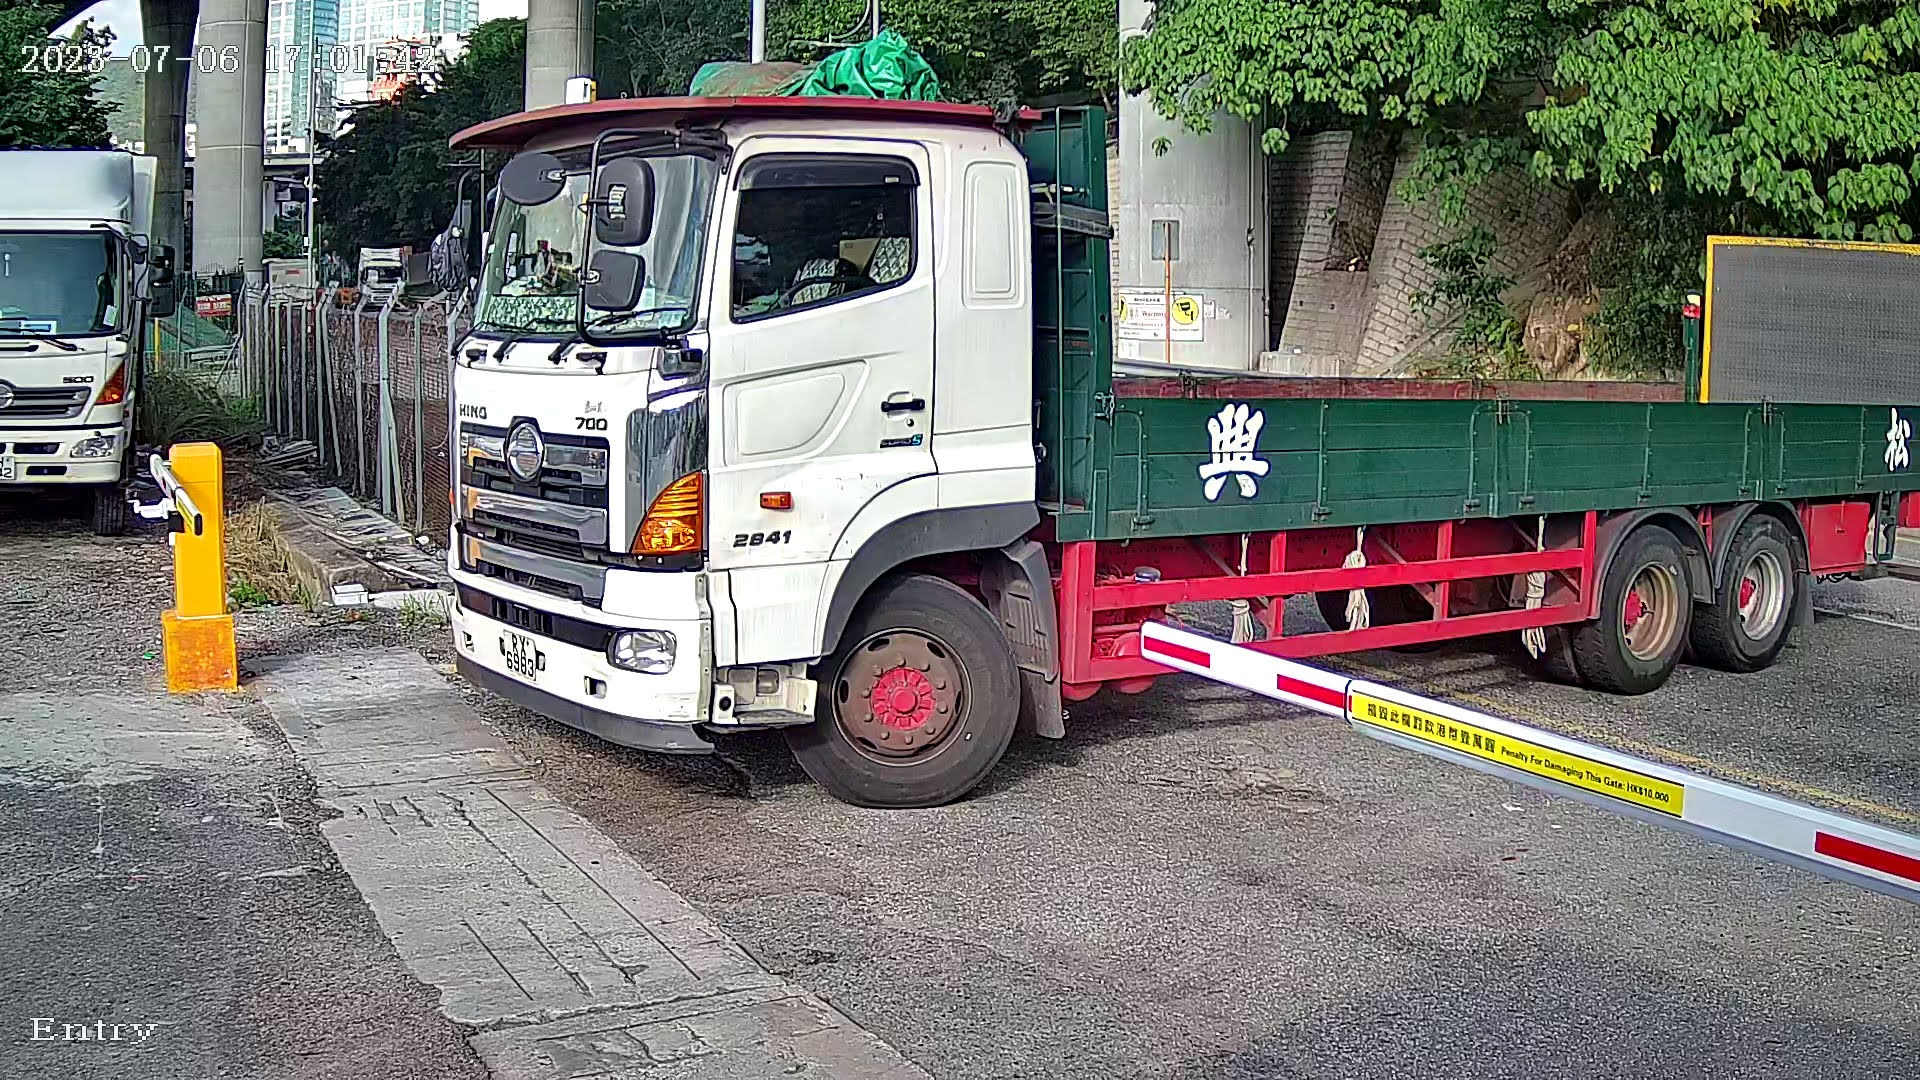truck_small: (388, 53, 1920, 831)
